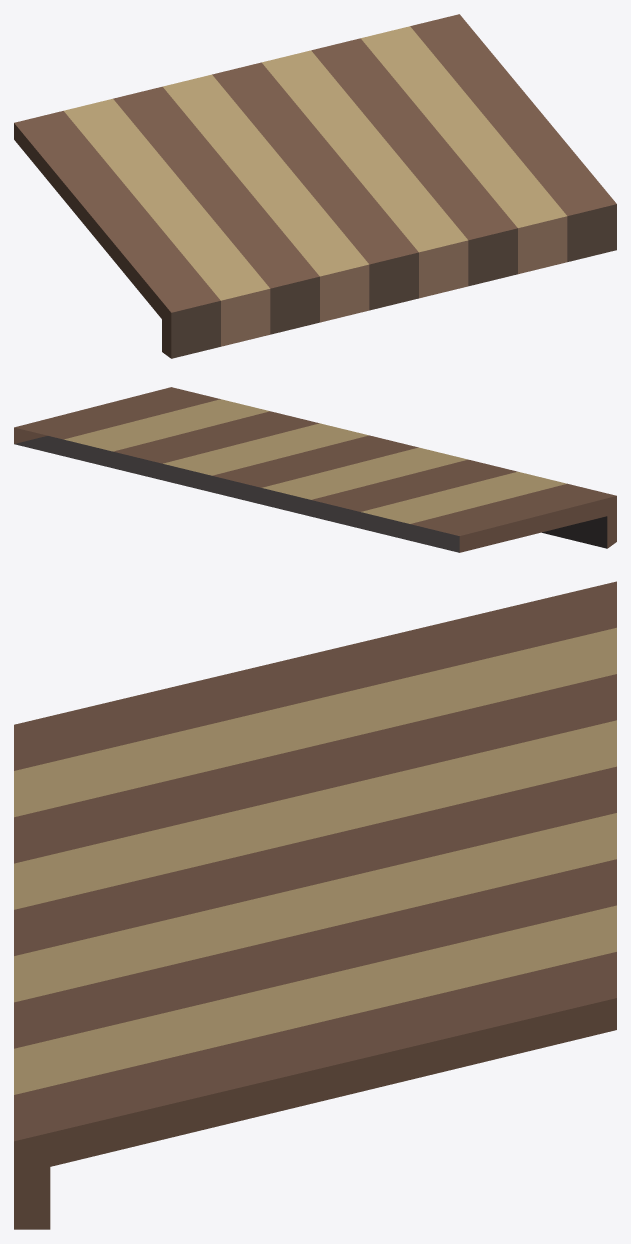
Rendered from TB_CITY_BD_Canopy_Big_H.FBX.
The picture shows the model from 3 angles, top to bottom: view 1: azimuth 30°, elevation 25°; view 2: azimuth 150°, elevation 25°; view 3: azimuth 270°, elevation 25°; orthographic projection. The views are drawn at different scales.
Parts seen in each view (by area): view 1: TB_CITY_BD_Canopy_Big_H; view 2: TB_CITY_BD_Canopy_Big_H; view 3: TB_CITY_BD_Canopy_Big_H.
Boxes of the visible parts, box(x1,y1,x2,y2) form: TB_CITY_BD_Canopy_Big_H: box(14, 14, 616, 358); TB_CITY_BD_Canopy_Big_H: box(14, 387, 616, 552); TB_CITY_BD_Canopy_Big_H: box(14, 581, 616, 1229).
Bounding box in the file's own units: 6.47 × 1.68 × 3.96.
